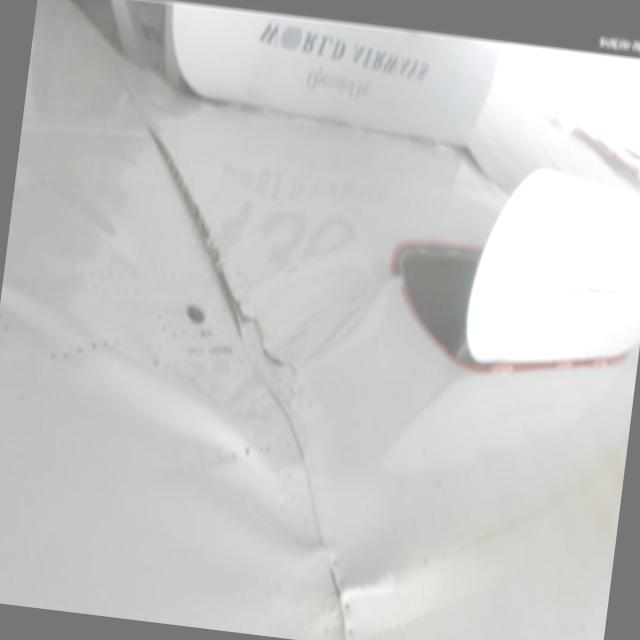crack: (218, 292, 308, 384)
dent: (0, 287, 272, 467), (192, 453, 334, 562), (320, 463, 415, 590)
